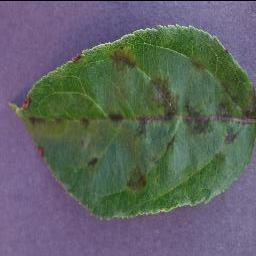apple healthy: (8, 22, 255, 221)
